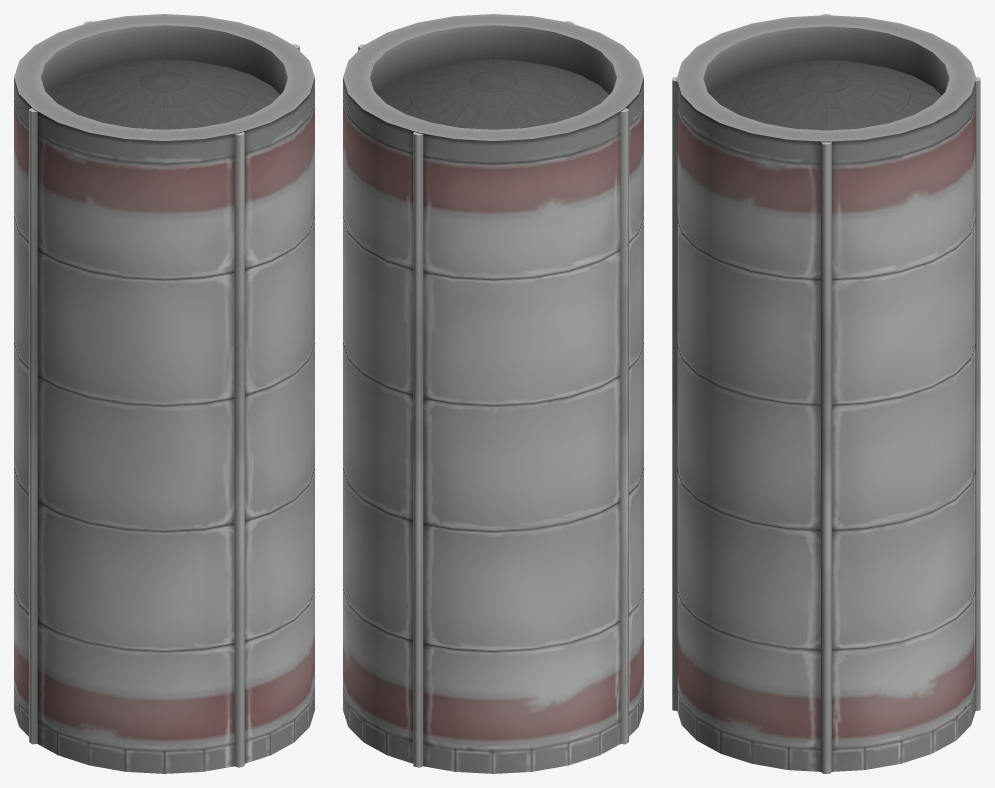
File: Diamant_BTank.dae
The picture shows the model from 3 angles, left to right: view 1: azimuth 30°, elevation 25°; view 2: azimuth 150°, elevation 25°; view 3: azimuth 270°, elevation 25°; orthographic projection.
Visible parts, largest first — view 1: DiamantBtank2; view 2: DiamantBtank2; view 3: DiamantBtank2.
Part boxes in pixels (x1,y1,x2,y2): DiamantBtank2: (14,14,314,773); DiamantBtank2: (343,14,643,773); DiamantBtank2: (672,14,980,773).
Size of the model in its own units: 1.28 by 2.9 by 1.28.
